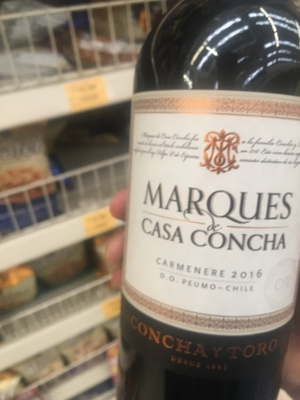marques de casa concha carmenere: (108, 16, 300, 365)
